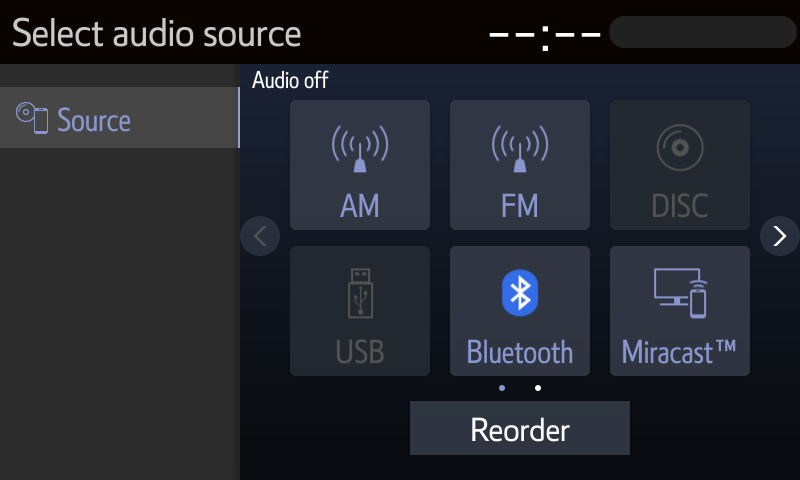touchPart: (289, 100, 430, 228), (449, 101, 590, 229), (450, 246, 589, 375), (609, 248, 750, 375), (1, 87, 240, 147), (410, 402, 630, 455), (755, 214, 800, 256)
untouchPart: (610, 99, 751, 229), (290, 248, 431, 375), (5, 13, 301, 56), (608, 10, 798, 54), (473, 11, 602, 53), (247, 70, 337, 90), (240, 215, 280, 259)
